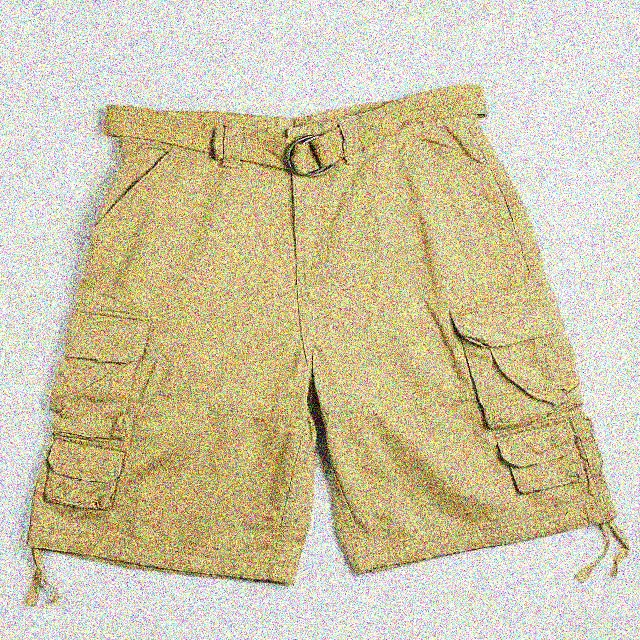Shorts: (29, 76, 640, 594)
